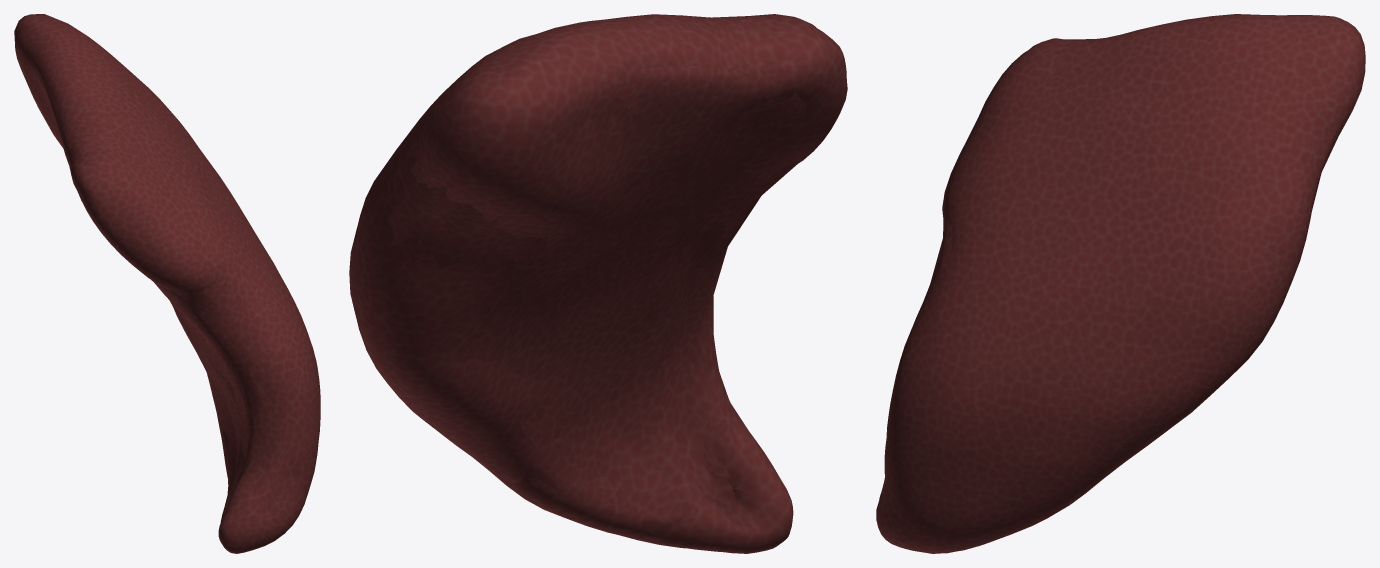
The model's file is Spleen.fbx.
3 views of the same model, side by side, from view 1: azimuth 30°, elevation 25°; view 2: azimuth 150°, elevation 25°; view 3: azimuth 270°, elevation 25° (orthographic). The views are drawn at different scales.
Visible parts, largest first — view 1: Spleen, Spleen low; view 2: Spleen, Spleen low; view 3: Spleen, Spleen low.
Boxes of the visible parts, <box> form: Spleen: <box>14,14,320,553</box>; Spleen low: <box>29,37,306,517</box>; Spleen: <box>349,14,847,553</box>; Spleen low: <box>387,15,806,541</box>; Spleen: <box>876,14,1365,553</box>; Spleen low: <box>881,35,1337,514</box>.
Size of the model in its own units: 10.69 by 19.59 by 17.3.
